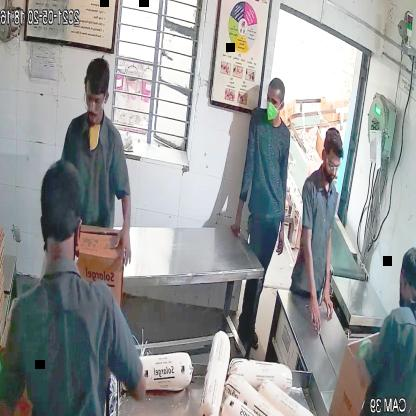goggles: (80, 86, 110, 118), (321, 149, 345, 175)
